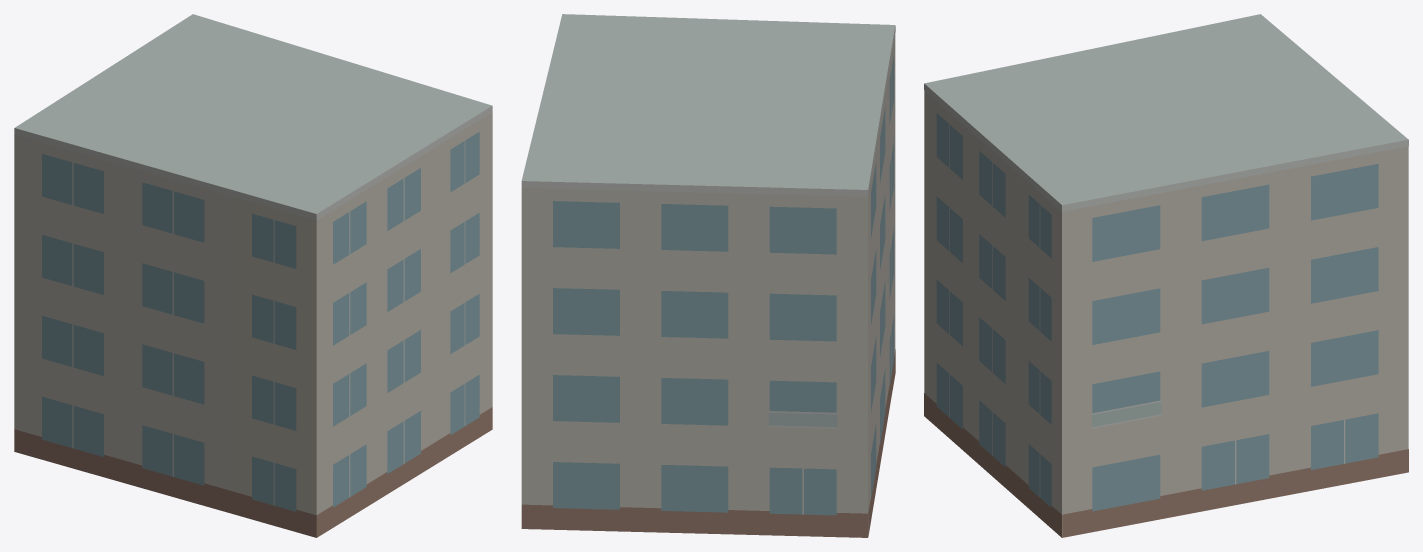
The model's file is survey-upis-32641288.glb.
3 renders of one model, left to right at view 1: azimuth 30°, elevation 25°; view 2: azimuth 150°, elevation 25°; view 3: azimuth 270°, elevation 25°, orthographic. The views are drawn at different scales.
Visible parts, largest first — view 1: survey-upis-32641288.tmp; view 2: survey-upis-32641288.tmp; view 3: survey-upis-32641288.tmp.
Boxes of the visible parts, x1,y1,x2,y2 form: survey-upis-32641288.tmp: [14, 14, 492, 537]; survey-upis-32641288.tmp: [521, 14, 895, 537]; survey-upis-32641288.tmp: [924, 14, 1408, 537].
Bounding box in the file's own units: 15.17 × 12.3 × 16.25.
